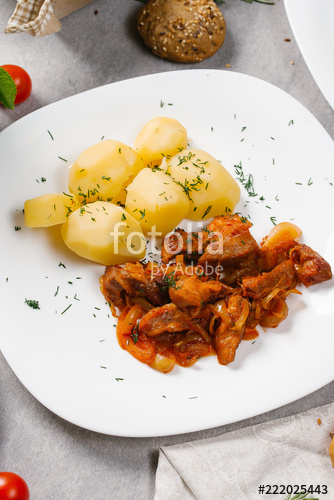boiled potatoes: (18, 121, 253, 245)
